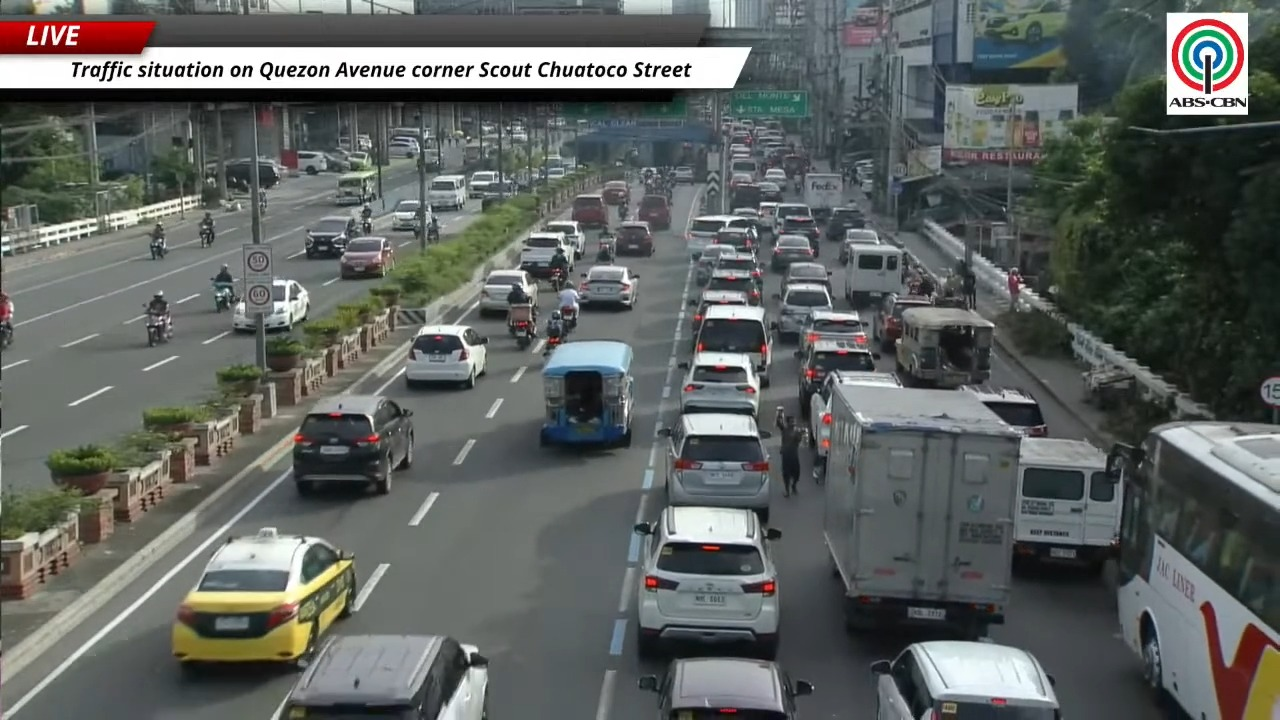bus: (1107, 421, 1279, 719)
car: (171, 527, 356, 671), (634, 505, 781, 659), (277, 634, 488, 719), (871, 642, 1061, 719), (659, 413, 770, 522), (292, 395, 414, 494), (638, 657, 813, 719), (800, 370, 902, 464), (795, 340, 878, 412), (405, 324, 488, 388), (679, 352, 759, 415), (958, 384, 1047, 436), (980, 0, 1066, 45), (872, 294, 931, 351), (774, 283, 832, 339), (685, 215, 749, 260), (799, 310, 869, 350), (478, 269, 538, 315), (691, 290, 748, 336), (579, 265, 638, 309), (339, 236, 395, 279), (263, 278, 309, 330), (304, 215, 353, 258), (705, 268, 761, 305), (715, 253, 762, 291), (780, 262, 833, 295), (543, 220, 585, 259), (695, 245, 735, 285), (778, 216, 819, 255), (770, 235, 814, 271), (838, 228, 880, 264), (825, 207, 866, 242), (615, 221, 655, 256), (571, 194, 608, 228), (637, 194, 671, 230), (774, 202, 811, 233), (713, 228, 758, 253), (731, 207, 760, 236), (467, 171, 498, 198), (730, 182, 762, 207), (297, 151, 328, 174), (758, 200, 779, 233), (601, 181, 629, 205), (387, 138, 420, 158), (324, 149, 350, 172), (844, 228, 881, 243), (757, 180, 783, 201), (347, 150, 372, 170), (729, 174, 753, 188), (764, 168, 786, 183), (729, 143, 751, 157), (674, 167, 694, 182), (546, 167, 566, 181), (859, 179, 874, 194), (426, 207, 431, 223)
motorcycle: (508, 304, 535, 349), (146, 313, 168, 346), (212, 281, 234, 312), (596, 237, 615, 263), (561, 306, 577, 333), (543, 335, 563, 356), (549, 268, 565, 292), (149, 237, 166, 259), (0, 321, 12, 350), (199, 226, 213, 247), (427, 224, 440, 243), (617, 203, 628, 221), (361, 219, 372, 235), (259, 198, 266, 213)
truck: (823, 386, 1021, 639), (1015, 437, 1121, 571), (520, 231, 573, 278), (803, 173, 843, 223)
